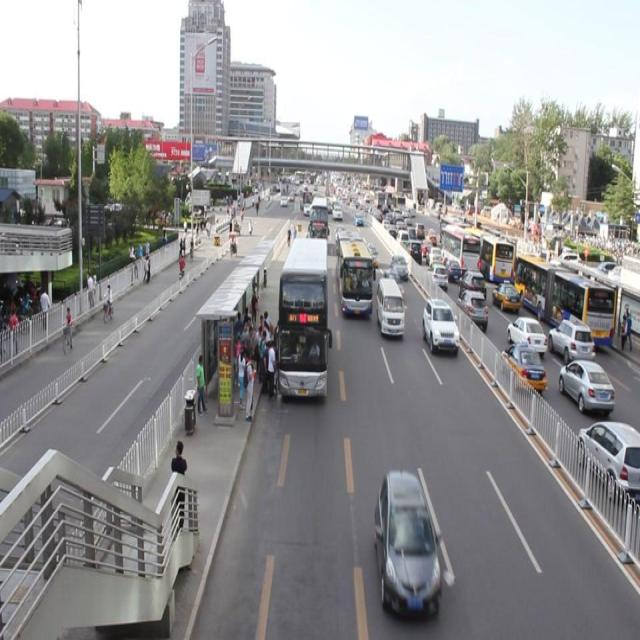car: (374, 469, 441, 611), (423, 297, 457, 357), (378, 266, 403, 301), (390, 253, 408, 282), (362, 242, 378, 269), (331, 202, 342, 222), (302, 200, 311, 216), (354, 214, 363, 226)
truck: (377, 275, 403, 338)
van: (280, 238, 328, 395), (335, 228, 372, 316), (308, 193, 328, 248)
